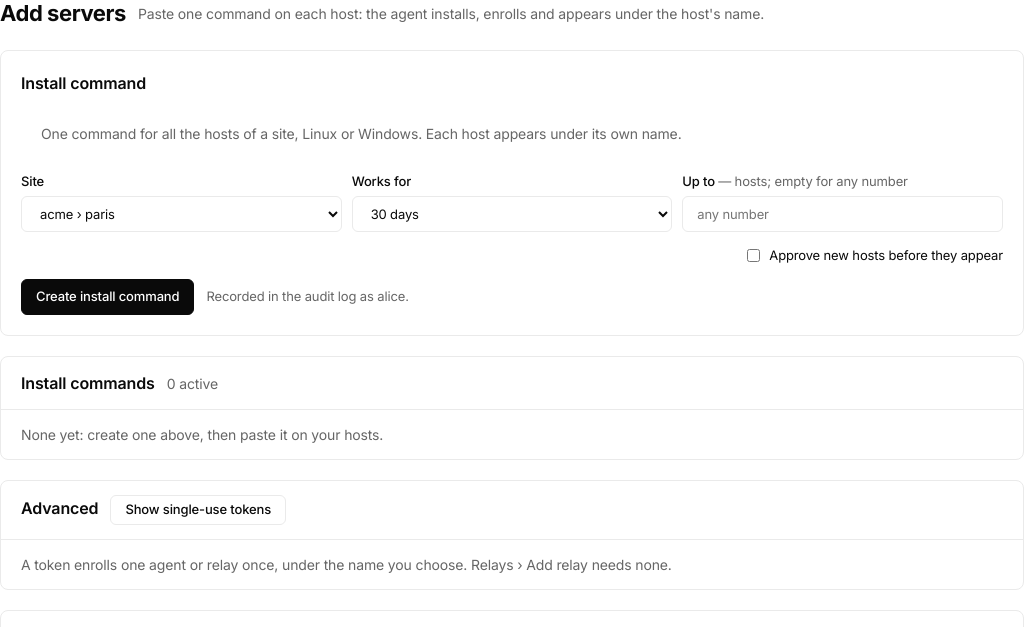
Scenario: TokensAdmin › hides used tokens until asked, and revokes a pending one in its row
Click the button "Show single-use tokens": (198, 510) [110,495,286,525]
(page scrolled)
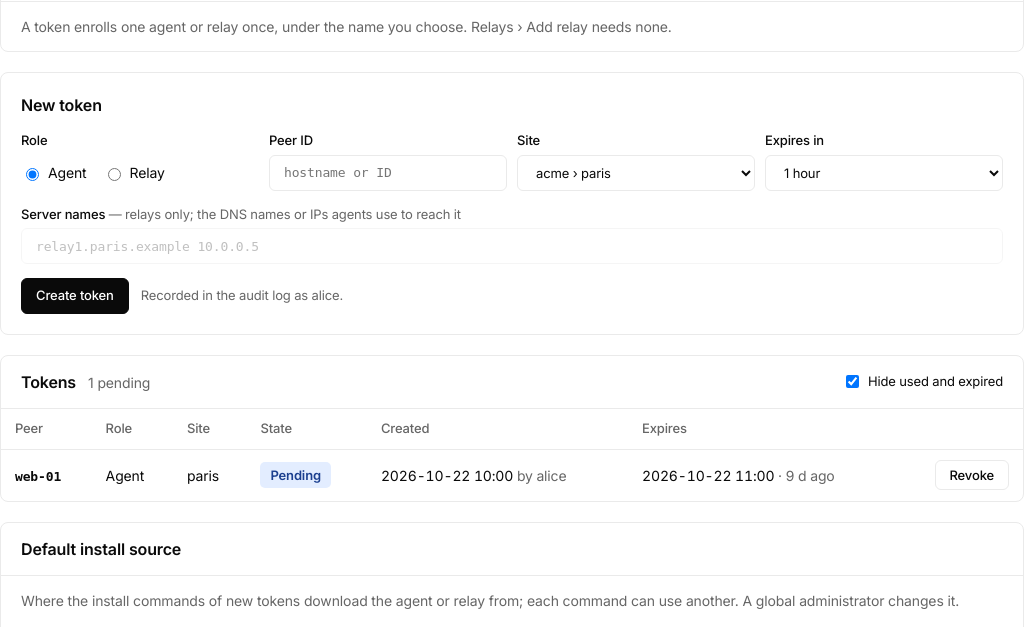
Expected: the row "web-02" is not shown
Expected: the element "Tokens" shows "1 pending", [0,355,1023,502]
Click the checkbox labelled "Hide used and expired": (852, 382) [846,375,859,388]
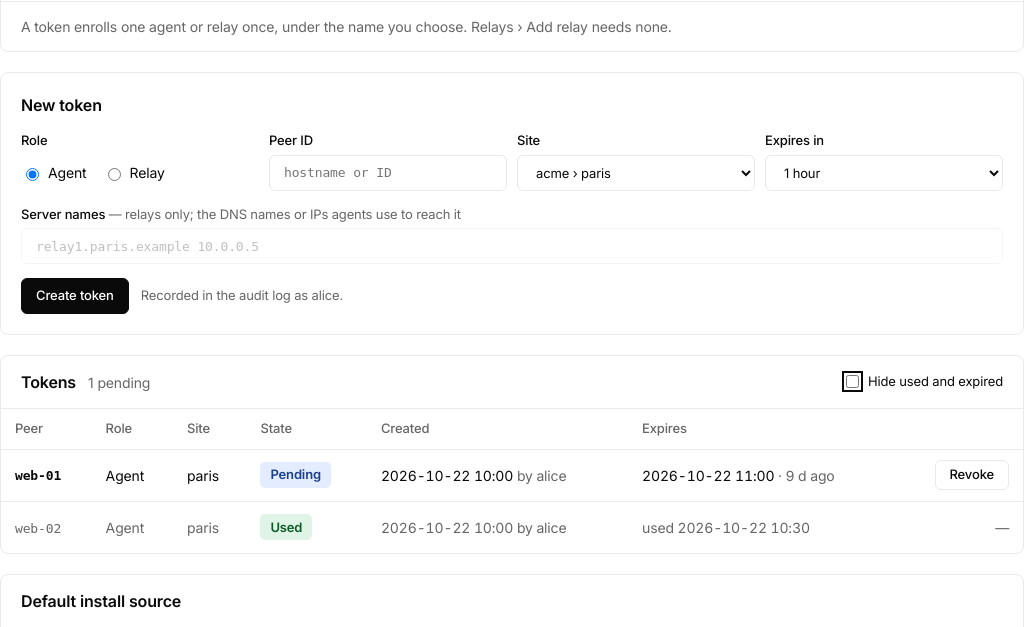
Expected: the row "web-02" reads "web-02 Agent paris Used 2026-10-22 10:00 by alice used 2026-10-22 10:30 —", [1,501,1023,553]
Click the button with aria-label "Revoke the token for web-01": (972, 475) [934,460,1009,490]
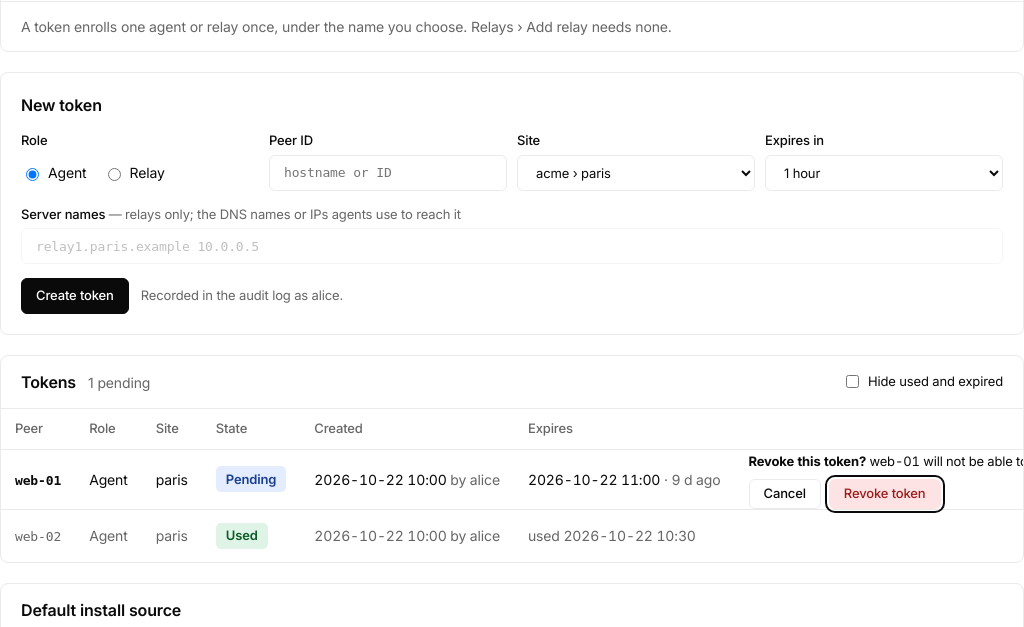
Expected: the form "Revoke this token?" shows "web-01 will not be able to enroll with it.", [869,452,1023,468]
Click the button "Revoke token": (885, 494) [829,479,940,509]
(page scrolled)
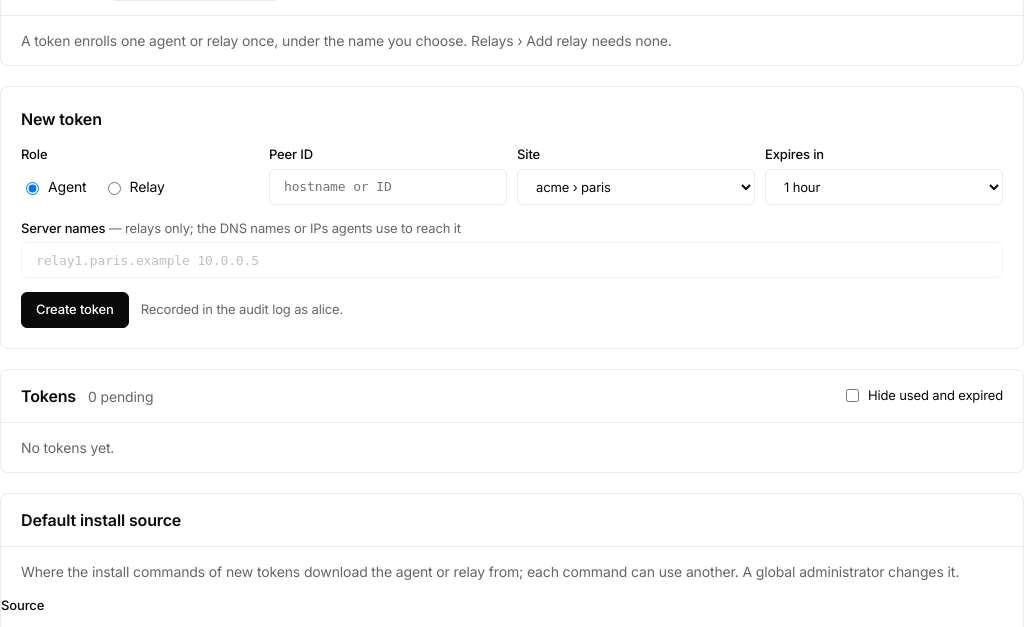
Expected: the text "No tokens yet." is shown, [21,439,114,456]
